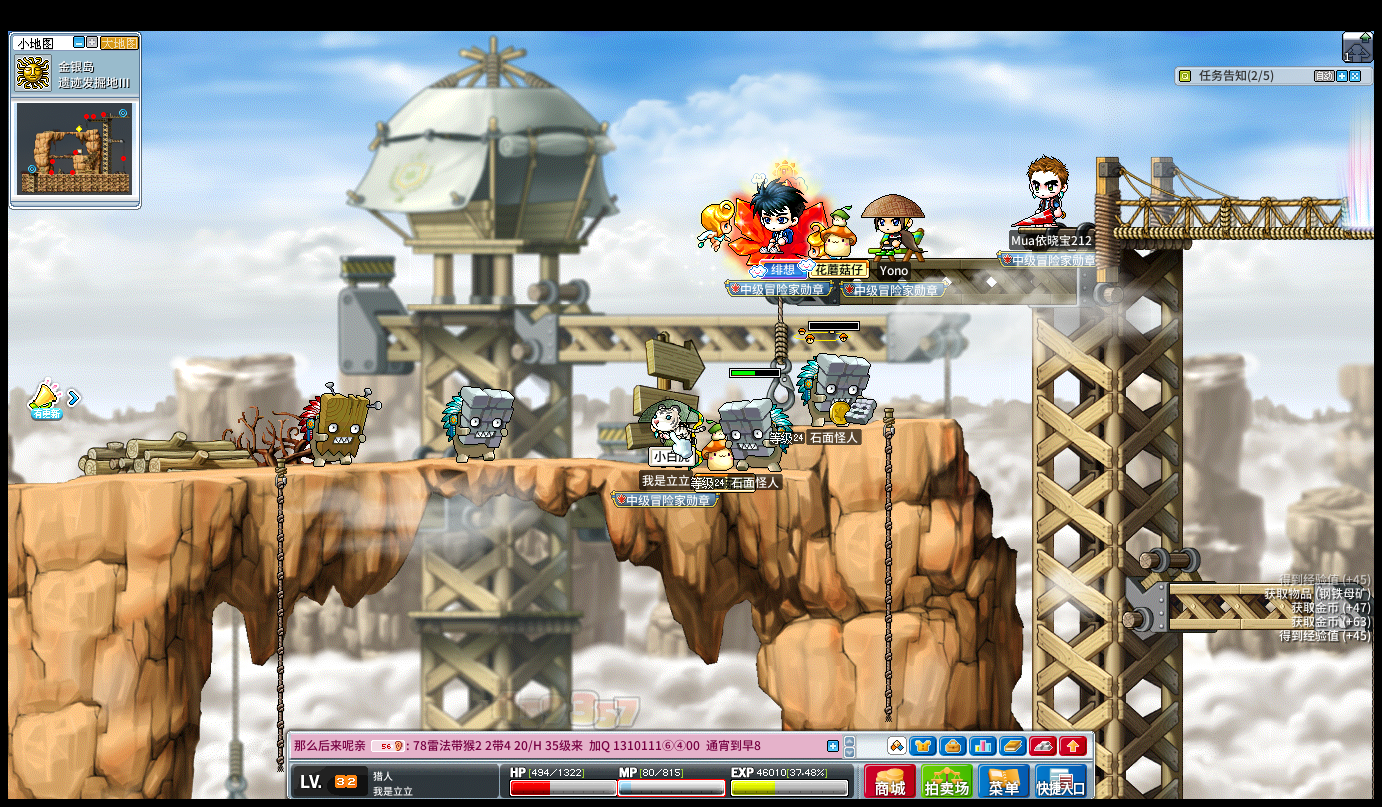floor: (24, 455, 846, 482), (792, 415, 958, 431)
monster: (298, 381, 379, 467), (441, 386, 514, 462), (797, 351, 872, 424), (720, 398, 792, 469)
rope: (271, 450, 287, 807), (880, 410, 895, 721), (880, 612, 894, 718)
